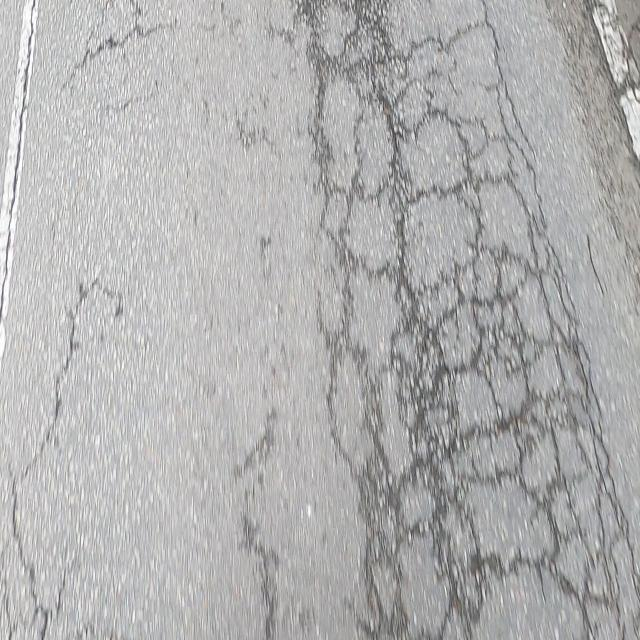Retak-Buaya: (299, 0, 639, 640)
Retak-Melintang: (54, 16, 178, 95)
Retak-Memanjang: (9, 279, 92, 624)
